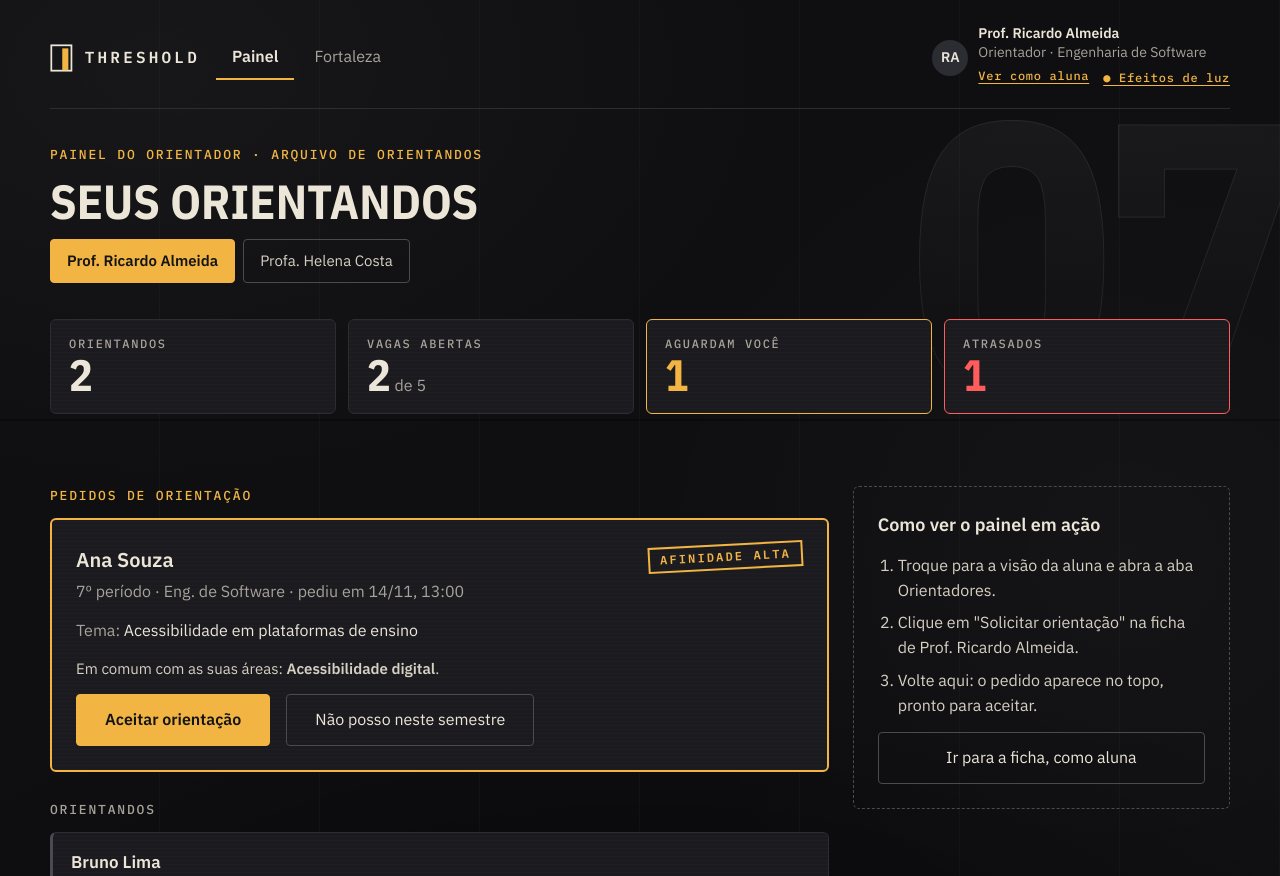
Scenario: Painel do orientador › erro do servidor aparece e o painel continua na tela
The width and height of the screenshot is (1280, 876).
Click the button "Aceitar orientação".
click(173, 720)  # box left=76, top=694, right=270, bottom=746
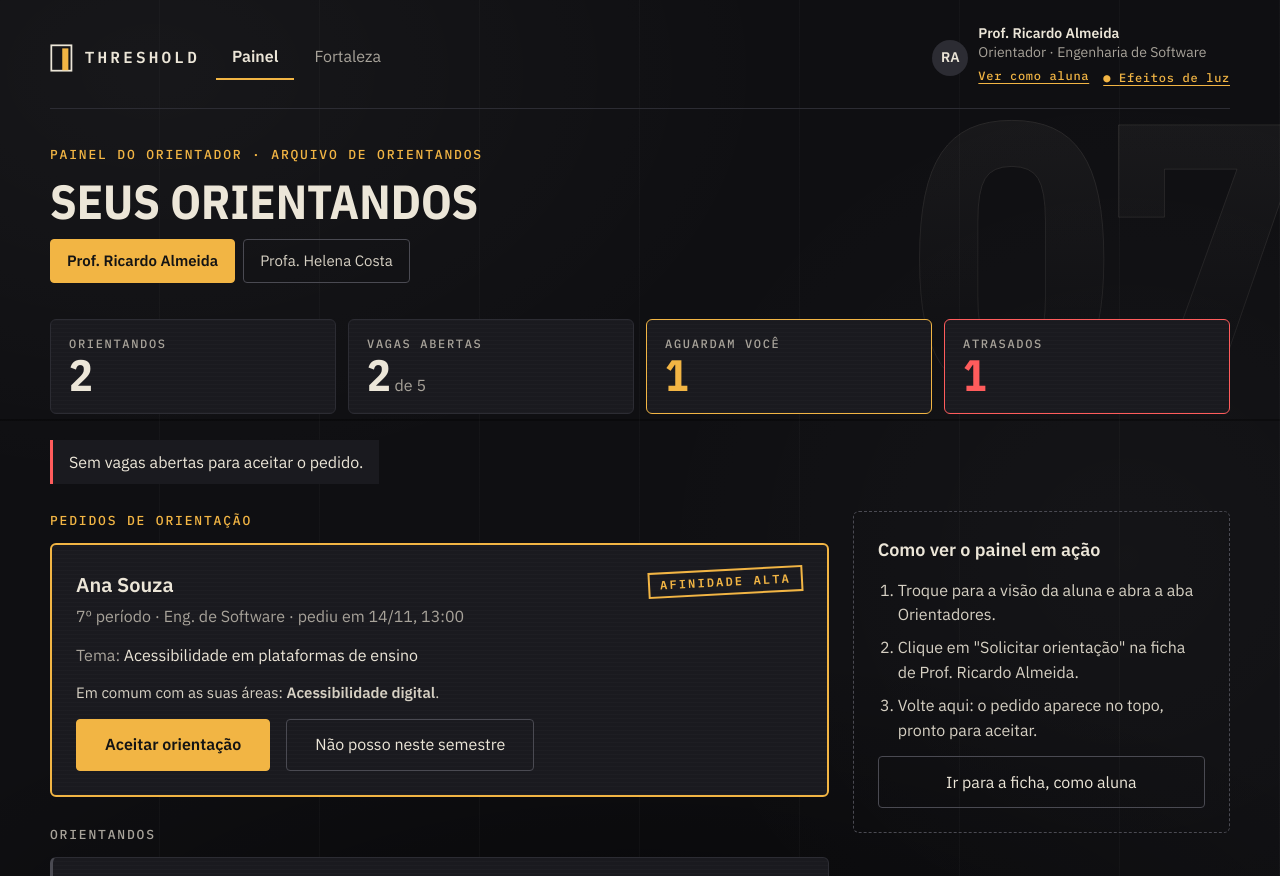
Expected: the button "Aceitar orientação" is enabled, left=76, top=719, right=270, bottom=771
Result: the text "Sem vagas abertas para aceitar o pedido." is shown at left=50, top=440, right=379, bottom=484
